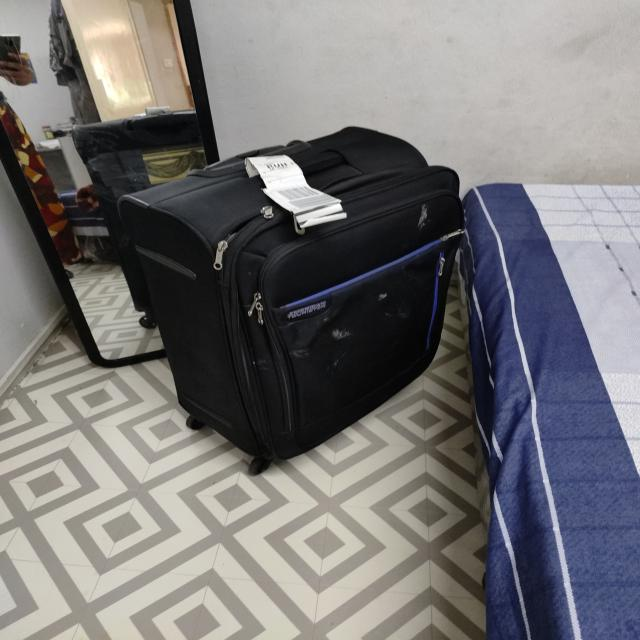suitcaserotation: (112, 121, 471, 480)
